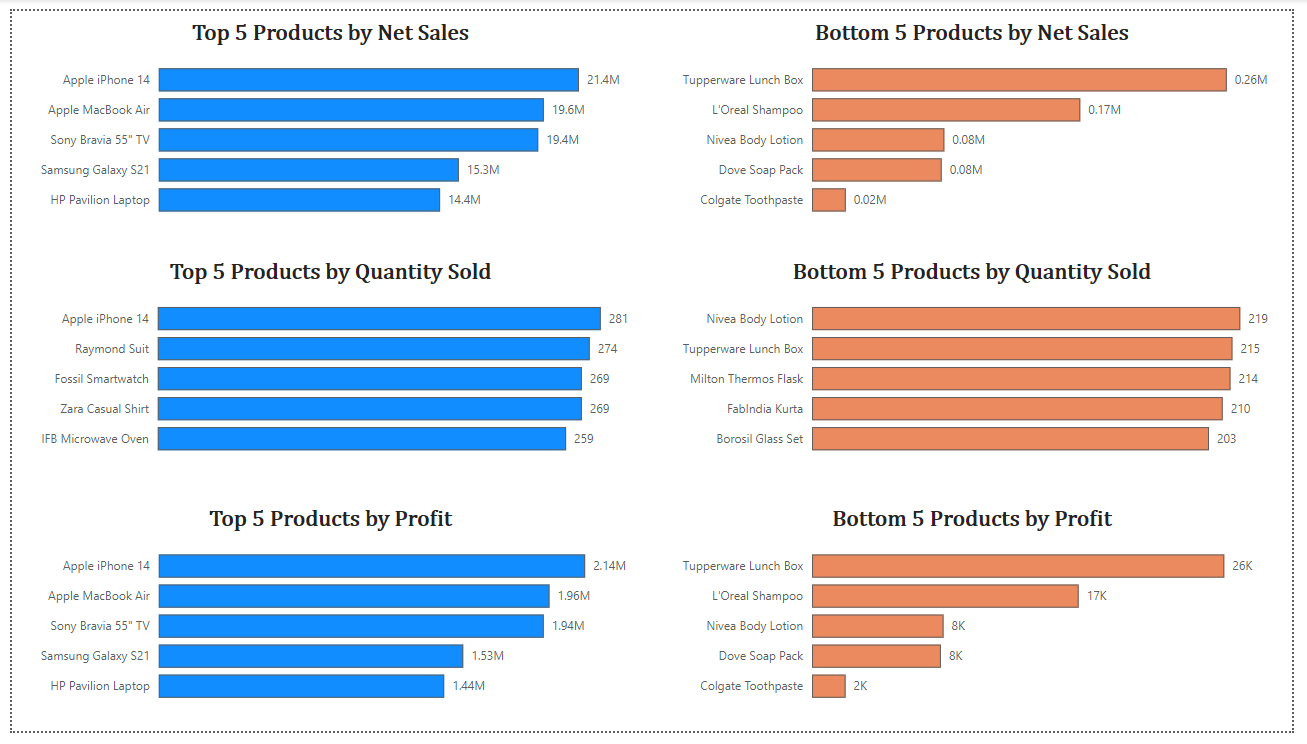

Layout of this report page (visuals, bound fields, positions):
{"tool":"powerbi","page":{"name":"Top/Bottom 5 Product","canvas":[1280,720],"ordinal":1},"visuals":[{"type":"barChart","title":"Top 5 Products by Net Sales","fields":{"Category":["Dim Product.Product Name"],"Y":["Sum(Fact Table.Net Sales)"]},"box":[15.1,9.6,606.5,208.6],"z":0},{"type":"barChart","title":"Bottom 5 Products by Net Sales","fields":{"Category":["Dim Product.Product Name"],"Y":["Sum(Fact Table.Net Sales)"]},"box":[655.9,9.6,606.5,208.6],"z":1000},{"type":"barChart","title":"Top 5 Products by Profit","fields":{"Category":["Dim Product.Product Name"],"Y":["Sum(Fact Table.Profit)"]},"box":[15.1,496.7,606.5,208.6],"z":2000},{"type":"barChart","title":"Bottom 5 Products by Profit","fields":{"Category":["Dim Product.Product Name"],"Y":["Sum(Fact Table.Profit)"]},"box":[655.9,496.7,606.5,208.6],"z":3000},{"type":"barChart","title":"Top 5 Products by Quantity Sold","fields":{"Category":["Dim Product.Product Name"],"Y":["Sum(Fact Table.Units Sold)"]},"box":[15.1,248.9,606.5,208.6],"z":4000},{"type":"barChart","title":"Bottom 5 Products by Quantity Sold","fields":{"Category":["Dim Product.Product Name"],"Y":["Sum(Fact Table.Units Sold)"]},"box":[655.9,248.4,606.5,208.6],"z":5000}]}

Visuals, with their boxes in screenshot pixels (x1, y1, x2, y2), scaled from the page's 1280x720 canvas onto the 1307x744 screenshot:
"Top 5 Products by Net Sales" barChart: <box>15,10,635,225</box>
"Bottom 5 Products by Net Sales" barChart: <box>670,10,1289,225</box>
"Top 5 Products by Profit" barChart: <box>15,513,635,729</box>
"Bottom 5 Products by Profit" barChart: <box>670,513,1289,729</box>
"Top 5 Products by Quantity Sold" barChart: <box>15,257,635,473</box>
"Bottom 5 Products by Quantity Sold" barChart: <box>670,257,1289,472</box>
